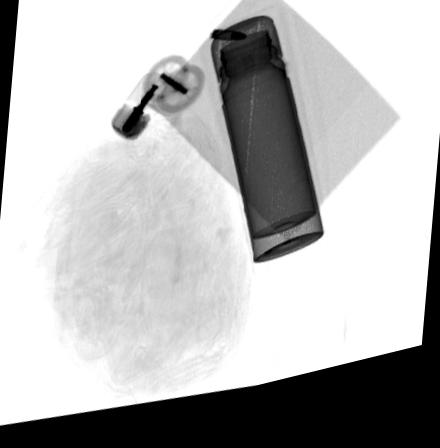Bullet: (209, 38, 250, 52)
